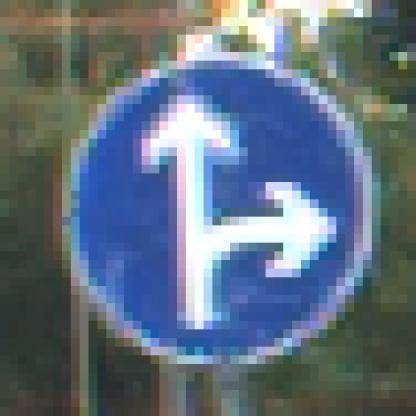Straight or Right: (45, 53, 373, 374)
